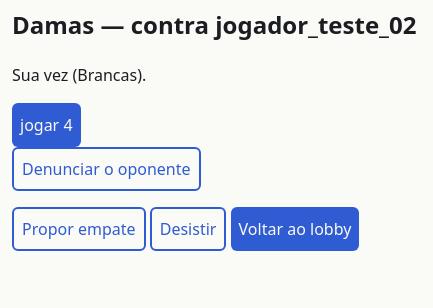
Scenario: propor empate envia offer_draw e mostra que aguarda a resposta
This screenshot has width=433, height=308.
expect the element with test id "board" is shown: met, box x1=12 y1=103 x2=80 y2=147
Click the button "Propor empate" at (79, 229), box x1=12 y1=207 x2=146 y2=251
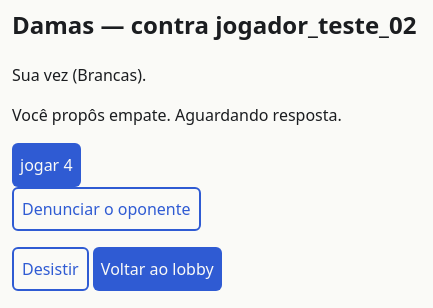
expect the text "Você propôs empate. Aguardando resposta." is shown: met, box x1=12 y1=104 x2=342 y2=126
expect the button "Propor empate" is gone: met
